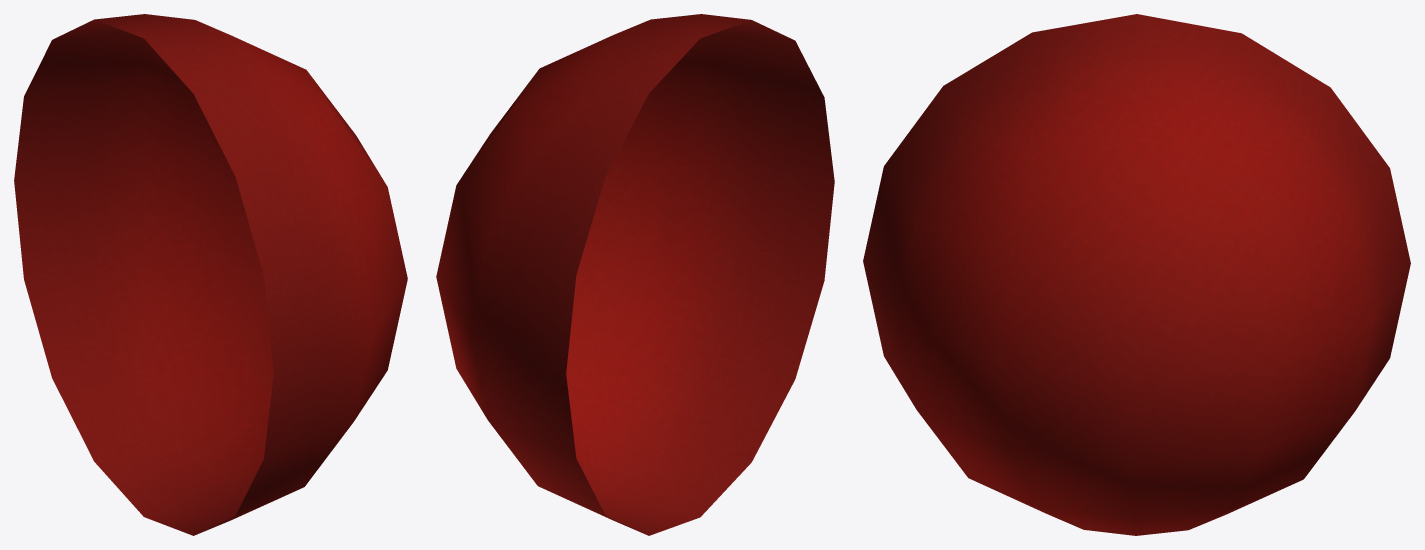
File: ClownNose.fbx
The picture shows the model from 3 angles, left to right: view 1: azimuth 30°, elevation 25°; view 2: azimuth 150°, elevation 25°; view 3: azimuth 270°, elevation 25°; orthographic projection. The views are drawn at different scales.
Parts seen in each view (by area): view 1: ClownNose; view 2: ClownNose; view 3: ClownNose.
Part boxes in pixels (box(x1,y1,x2,y2)): ClownNose: box(14, 14, 407, 535); ClownNose: box(436, 14, 834, 535); ClownNose: box(863, 14, 1410, 535).
Size of the model in its own units: 1.5 by 2.96 by 2.96.
